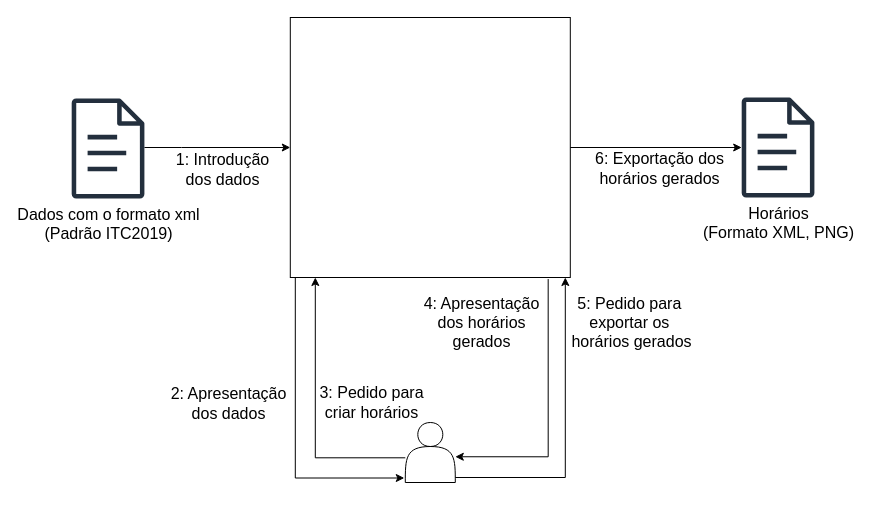
This 871x526 diagram has some shape labels left out. The shapes that lost their labels are listed below. From the top down, each one's centre as x and y in pixels, then its label:
At pixel 429 147: "Ferramenta para geração de horários".
At pixel 429 452: "Utilizador".
